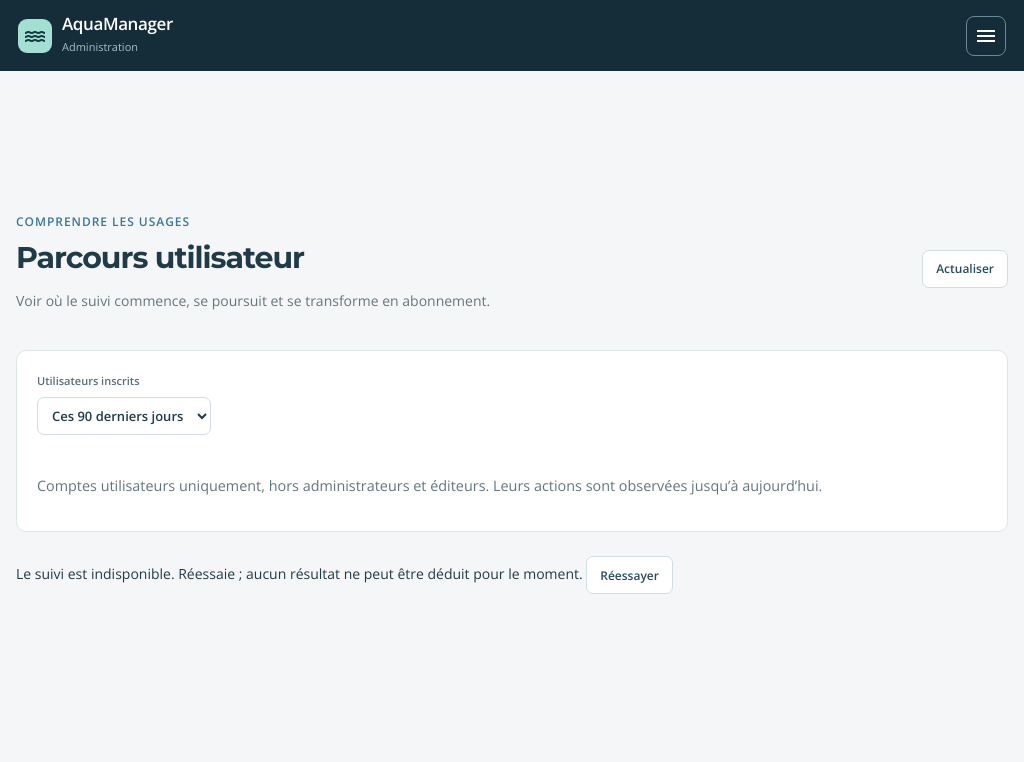
Parcours utilisateur › explique une erreur sans afficher des faux zéros et permet de réessayer
Expected: the message shows "indisponible", [16,556,673,594]
Click the button "Réessayer".
click(630, 575)  # box [586,556,673,594]
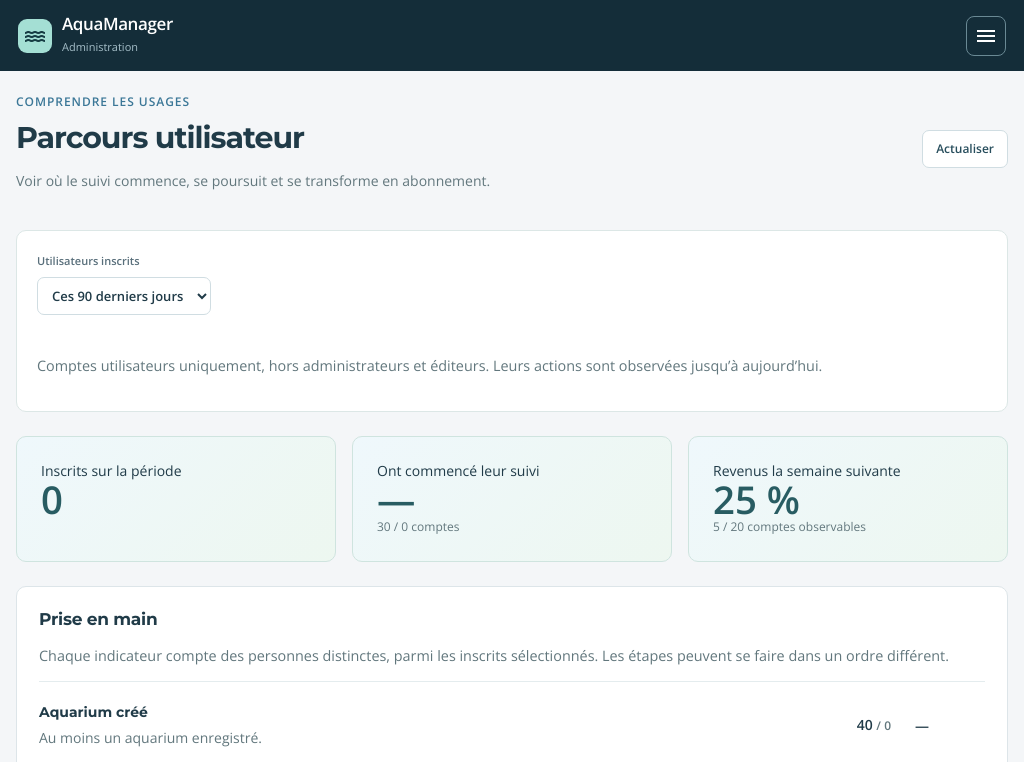
Expected: the element with class "headline" is shown, [16,436,1008,562]
